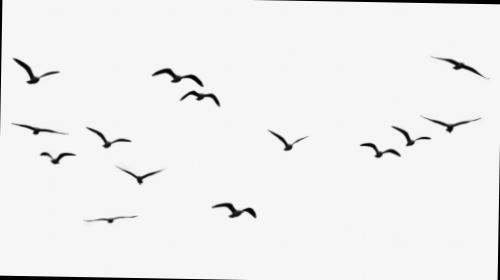bird: (201, 188, 268, 226), (254, 121, 314, 160), (6, 52, 62, 91), (76, 201, 140, 231), (80, 120, 138, 151)
